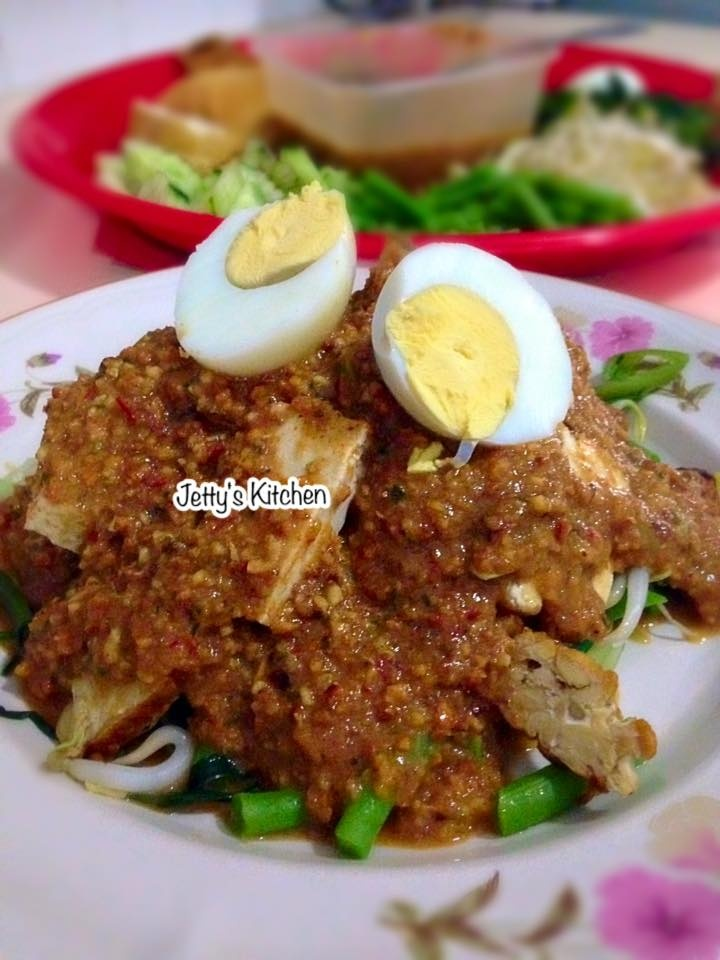pecel: (22, 297, 701, 874)
